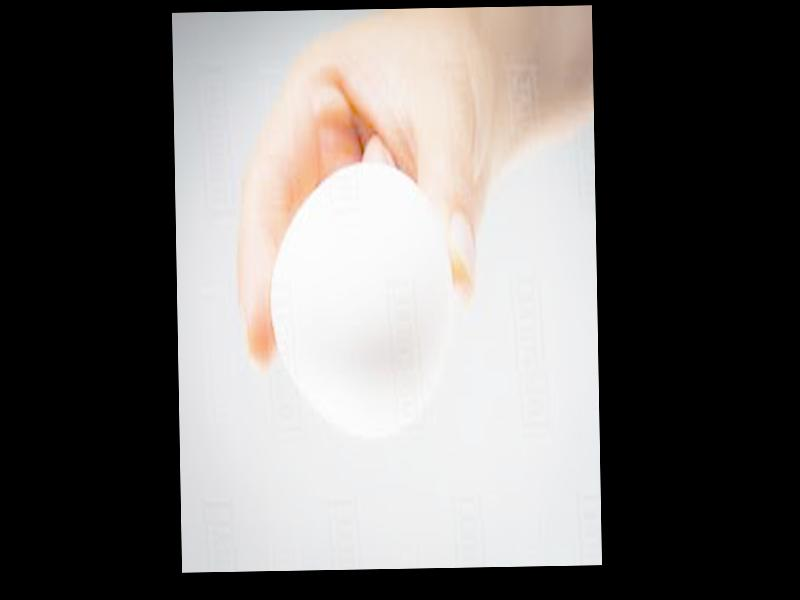Eggs: (268, 163, 451, 439)
